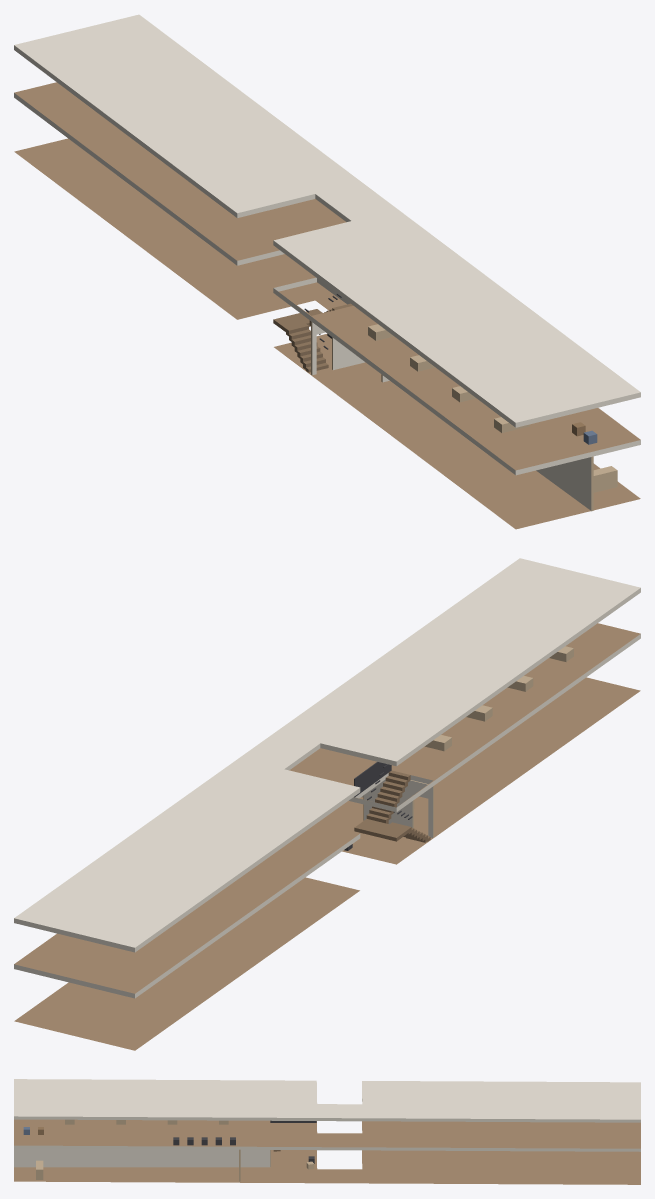
The model's file is interior.glb.
3 views of the same model, one above another, from view 1: azimuth 30°, elevation 25°; view 2: azimuth 150°, elevation 25°; view 3: azimuth 270°, elevation 25° (orthographic). The views are drawn at different scales.
Parts seen in each view (by area): view 1: slabs, partitions, stair, coarse-s1; view 2: slabs, stair, partitions, coarse-s1; view 3: slabs, partitions, coarse-s1, coarse-s0.
Part boxes in pixels (x1,y1,x2,y2): slabs: [14, 14, 640, 529]; partitions: [311, 321, 593, 511]; stair: [273, 293, 352, 372]; coarse-s1: [368, 324, 597, 444]; slabs: [14, 558, 640, 1050]; stair: [354, 762, 430, 842]; partitions: [361, 779, 433, 837]; coarse-s1: [425, 646, 573, 751]; slabs: [14, 1079, 640, 1184]; partitions: [14, 1148, 270, 1181]; coarse-s1: [23, 1119, 235, 1145]; coarse-s0: [36, 1156, 314, 1179].
Bounding box in the file's own units: 7.48 × 5.62 × 48.81.
